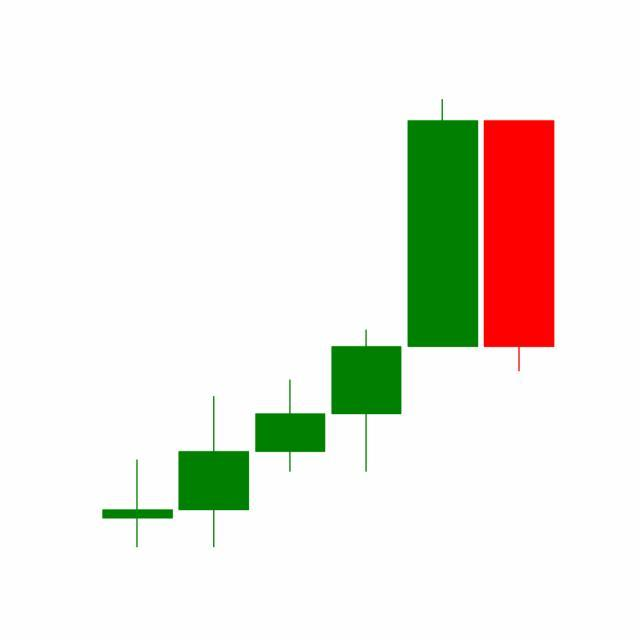Marubozu: (404, 97, 482, 350)
